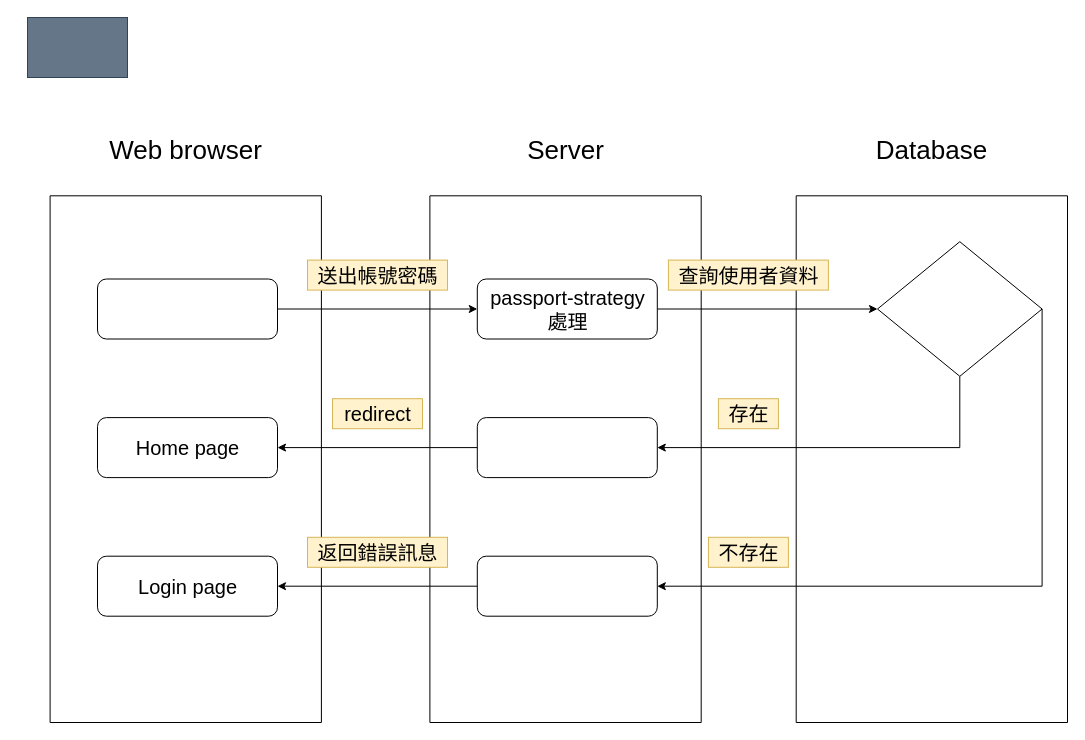
Image size: 1085x740. Some labels were removed from this diagram. The centre of each missing label's shape, as x and y in pixels:
Login page POST /login: the point at 187,308
passport-strategy 序列失敗: the point at 566,585
passport-strategy 序列至session: the point at 566,447
使用者 是否存在: the point at 959,308
登入: the point at 77,47
